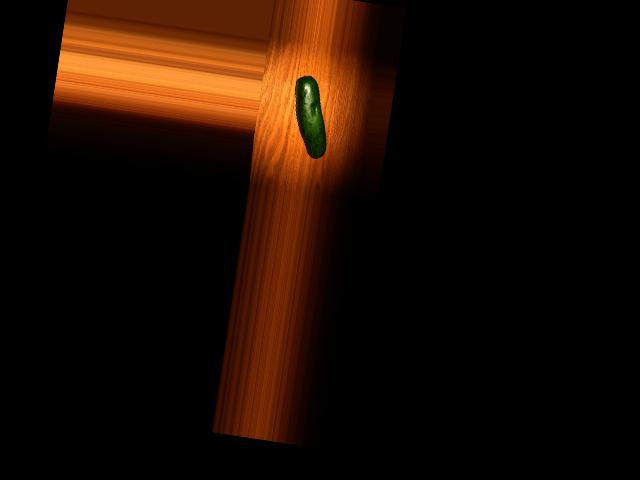cucumber: (285, 75, 335, 160)
